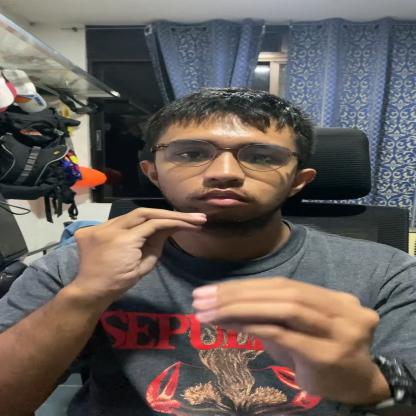Fix: (7, 171, 414, 392)
